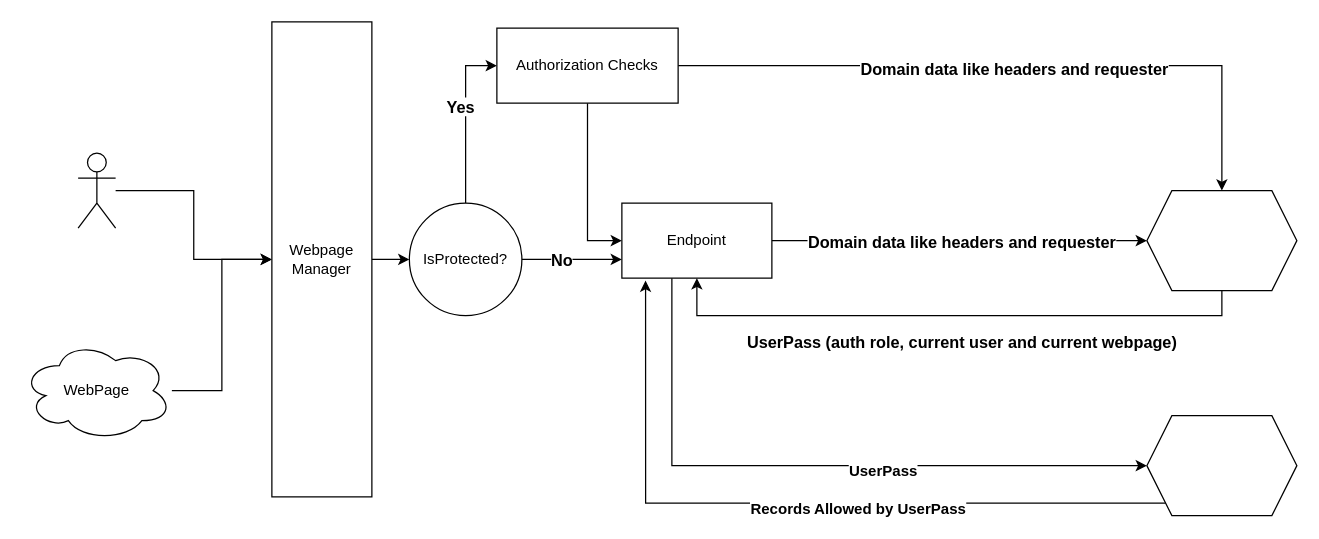
The diagram is 1319 pixels wide and 539 high, and some of its shapes have lost their labels. Here are the shapes that lost their labels. From the top down, the box of each, then its label:
(77, 152, 116, 228): User
(1146, 189, 1297, 291): AuthLogic
(1146, 414, 1297, 516): Repository
